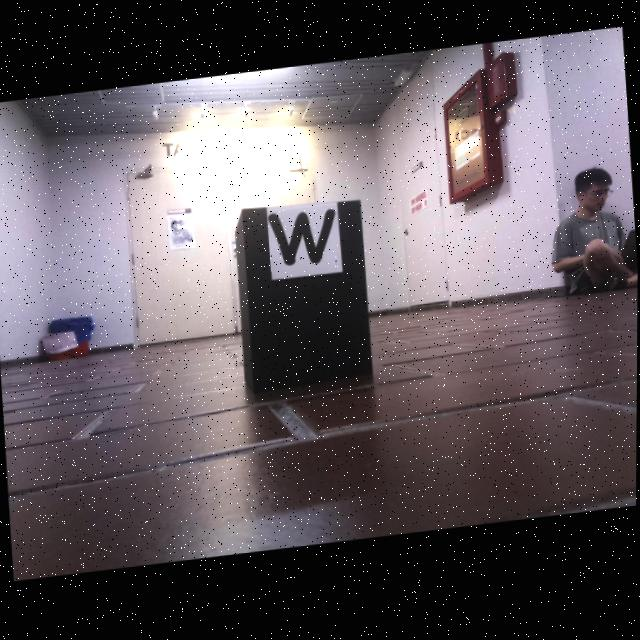W: (268, 211, 337, 270)
